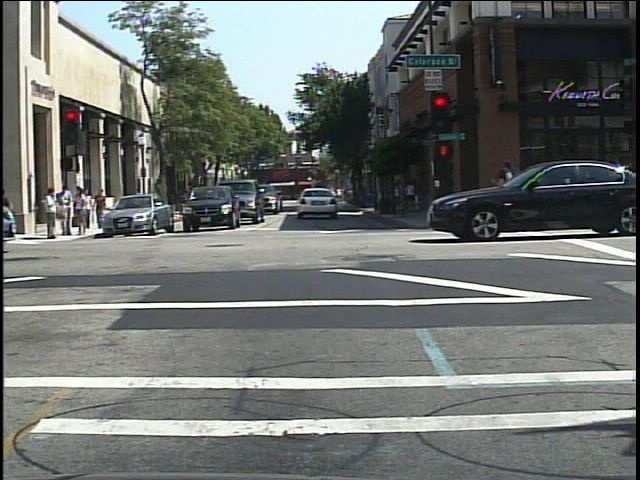person: (81, 185, 97, 229), (180, 181, 197, 221), (132, 186, 147, 217)
